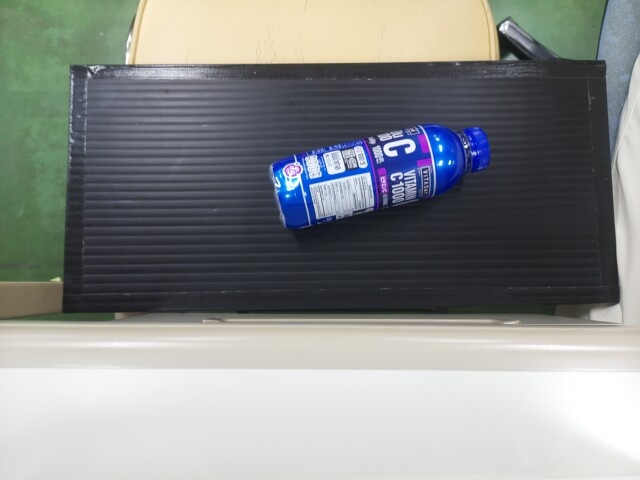plastic_bottle: (269, 126, 490, 227)
